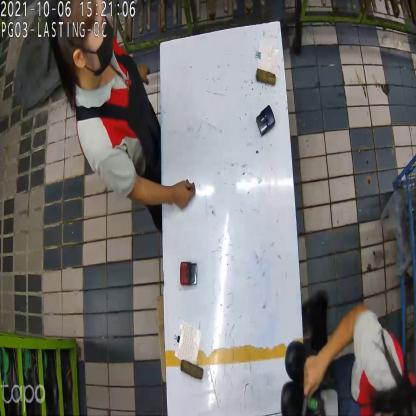shoes: (283, 342, 325, 416)
stamp: (257, 103, 276, 136), (180, 258, 198, 288)
